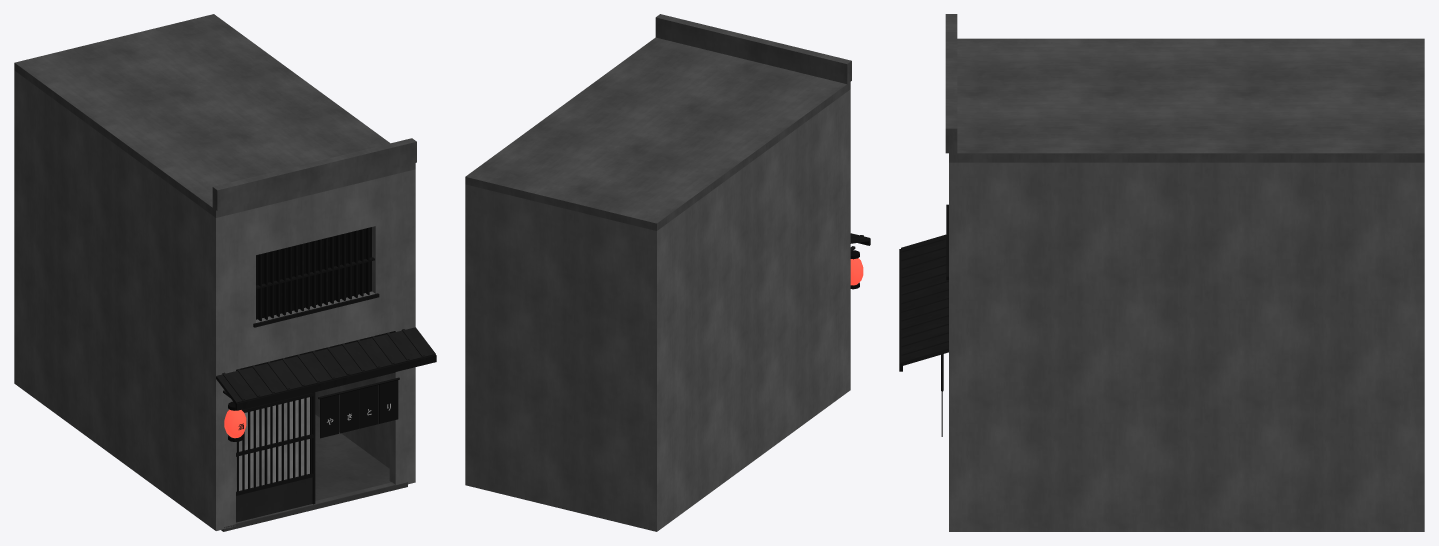
File: shop_izakaya.glb
3 views of the same model, side by side, from view 1: azimuth 30°, elevation 25°; view 2: azimuth 150°, elevation 25°; view 3: azimuth 270°, elevation 25° (orthographic). The views are drawn at different scales.
Visible parts, largest first — view 1: shop_izakaya; view 2: shop_izakaya; view 3: shop_izakaya.
Boxes of the visible parts, box(x1,y1,x2,y2) form: shop_izakaya: box(14, 14, 436, 531); shop_izakaya: box(465, 14, 870, 531); shop_izakaya: box(899, 14, 1424, 531).
Size of the model in its own units: 4.02 by 6.6 by 7.73.
Materials: 14 (14 with a texture image).
